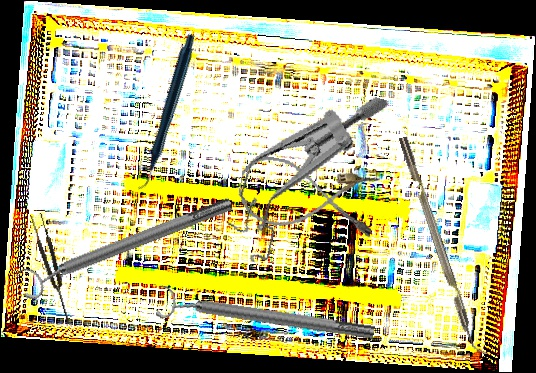Cannula: (234, 152, 381, 242)
Chopper: (398, 132, 490, 360)
Fixation Ring: (13, 187, 239, 304), (155, 282, 377, 352)
Handpiece: (81, 32, 249, 192)
Speculum: (217, 65, 390, 287)
Tissue Forceps: (29, 212, 75, 326)
